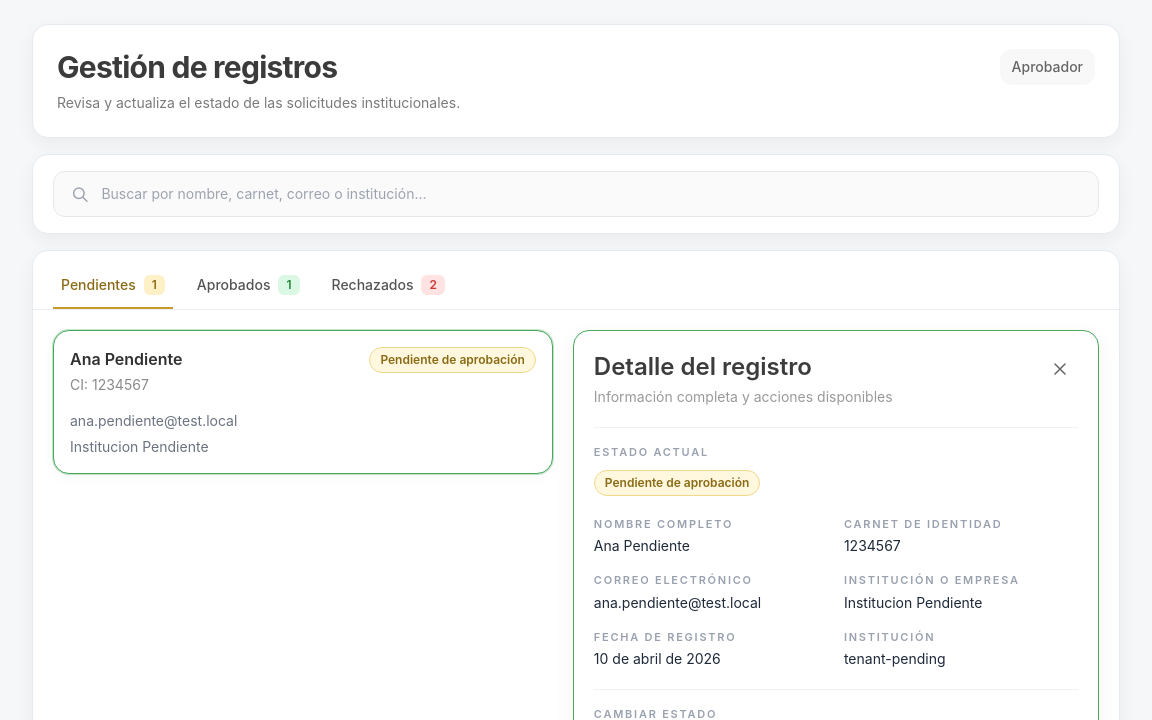
Scenario: MX-02 | Gestión de instituciones, administradores y wallets | Frontend Admin | Aprobaciones › [MX-02][SOPORTE-REVOCACION][INTEGRACION] revoca solicitudes aprobadas y muestra errores de API
The image size is (1152, 720).
Click the button "Aprobados 1". click: {"x": 248, "y": 286}
box: [189, 263, 308, 309]
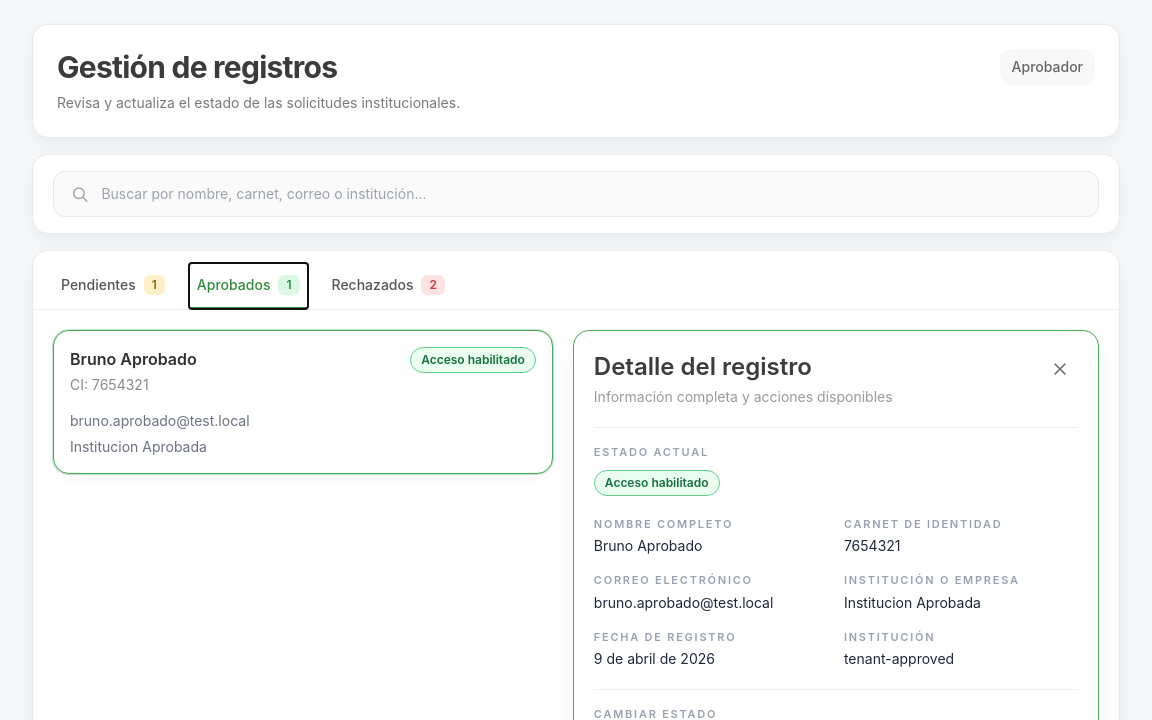
Click the button "Bruno Aprobado". click: {"x": 133, "y": 359}
box: [53, 330, 553, 474]
(page scrolled)
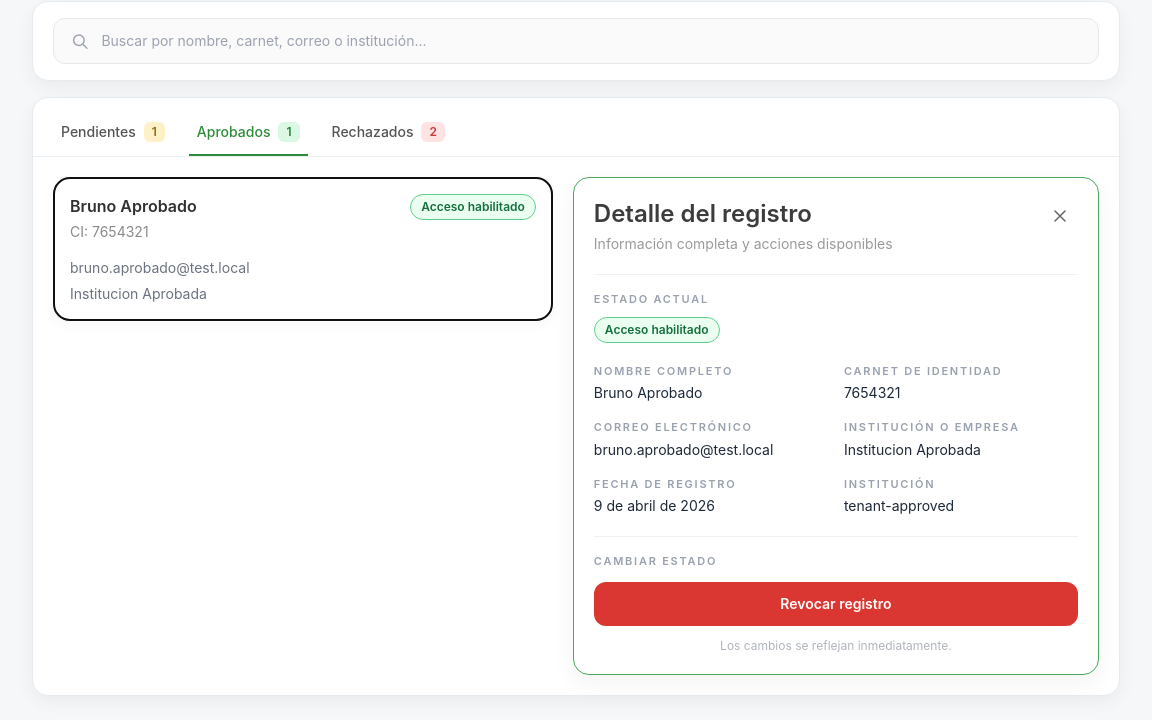
Click the button "Revocar registro". click: {"x": 836, "y": 604}
box: [594, 582, 1078, 626]
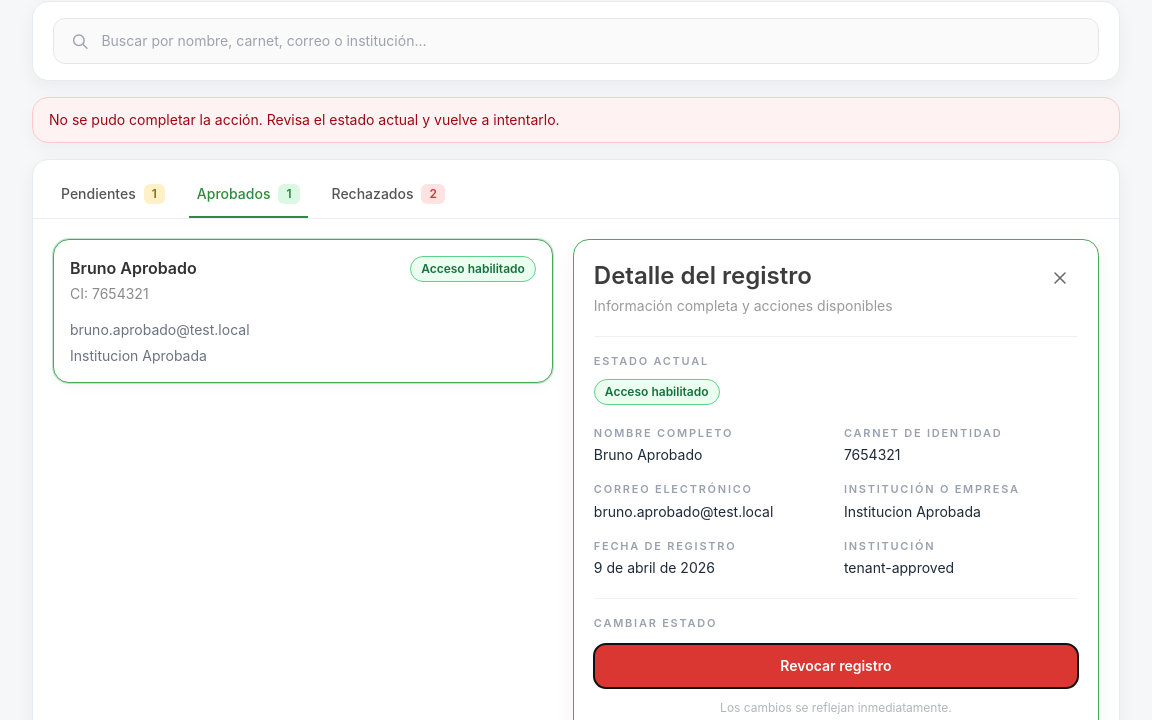
Expected: the text "No se pudo completar la acción. Revisa el estado actual y vuelve a intentarlo." is shown, [32, 97, 1120, 143]
